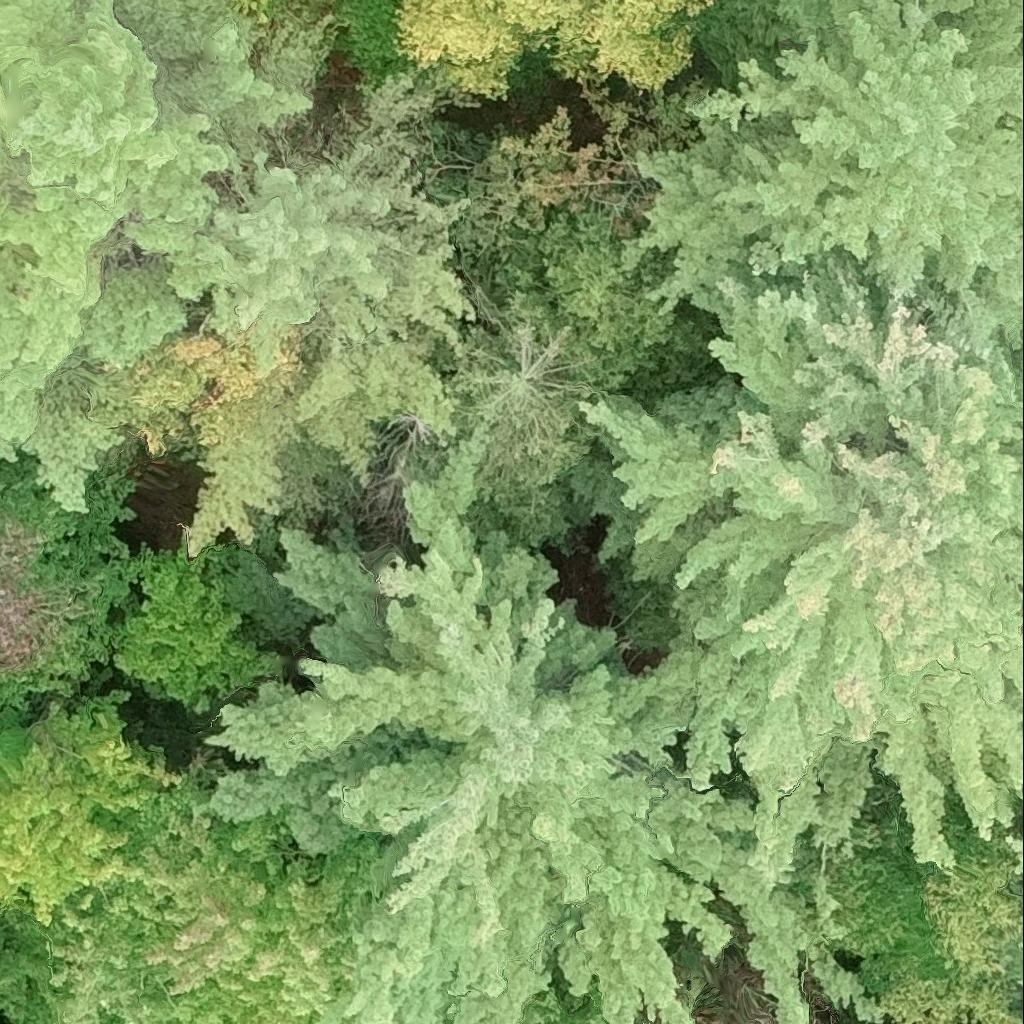crown: (207, 429, 882, 1023), (572, 260, 1023, 882), (0, 0, 313, 514), (621, 0, 1023, 336), (48, 774, 390, 1023), (792, 756, 1023, 1023), (407, 293, 610, 552), (0, 688, 182, 938), (497, 213, 715, 391), (482, 0, 715, 87), (386, 0, 526, 99), (523, 961, 612, 1023), (220, 0, 283, 27), (1014, 906, 1023, 977), (1010, 838, 1023, 882), (1003, 0, 1023, 27)
